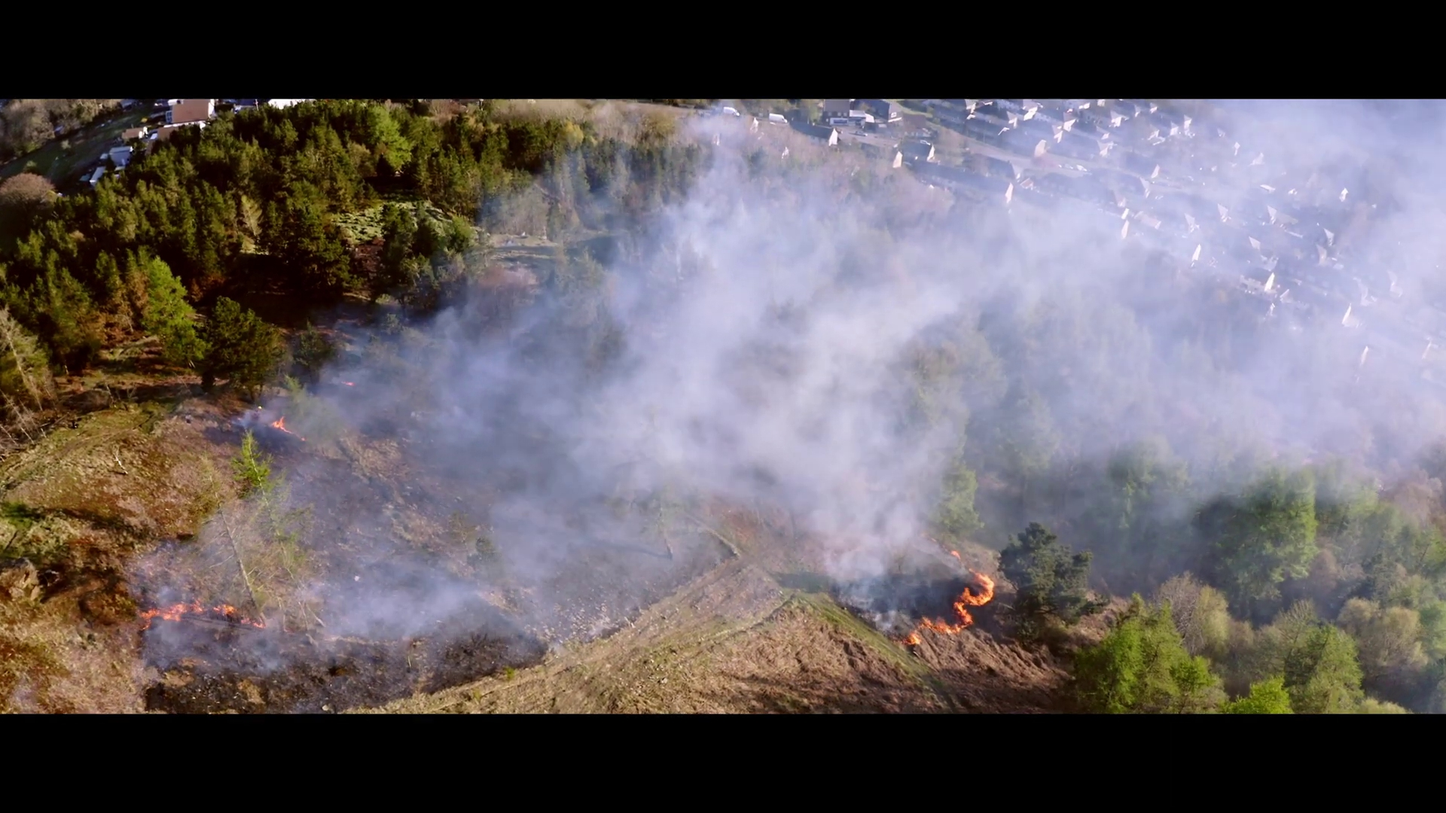forest_fire: (905, 570, 994, 645), (139, 601, 264, 629), (271, 416, 304, 440), (949, 551, 960, 560)
